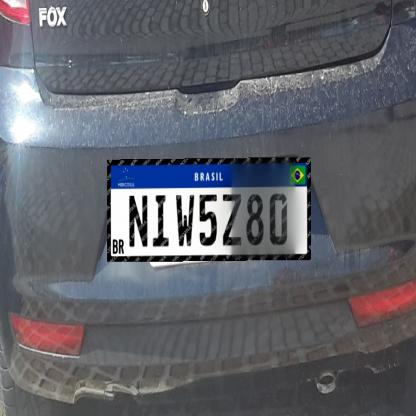PlacaM: (107, 157, 311, 262)
